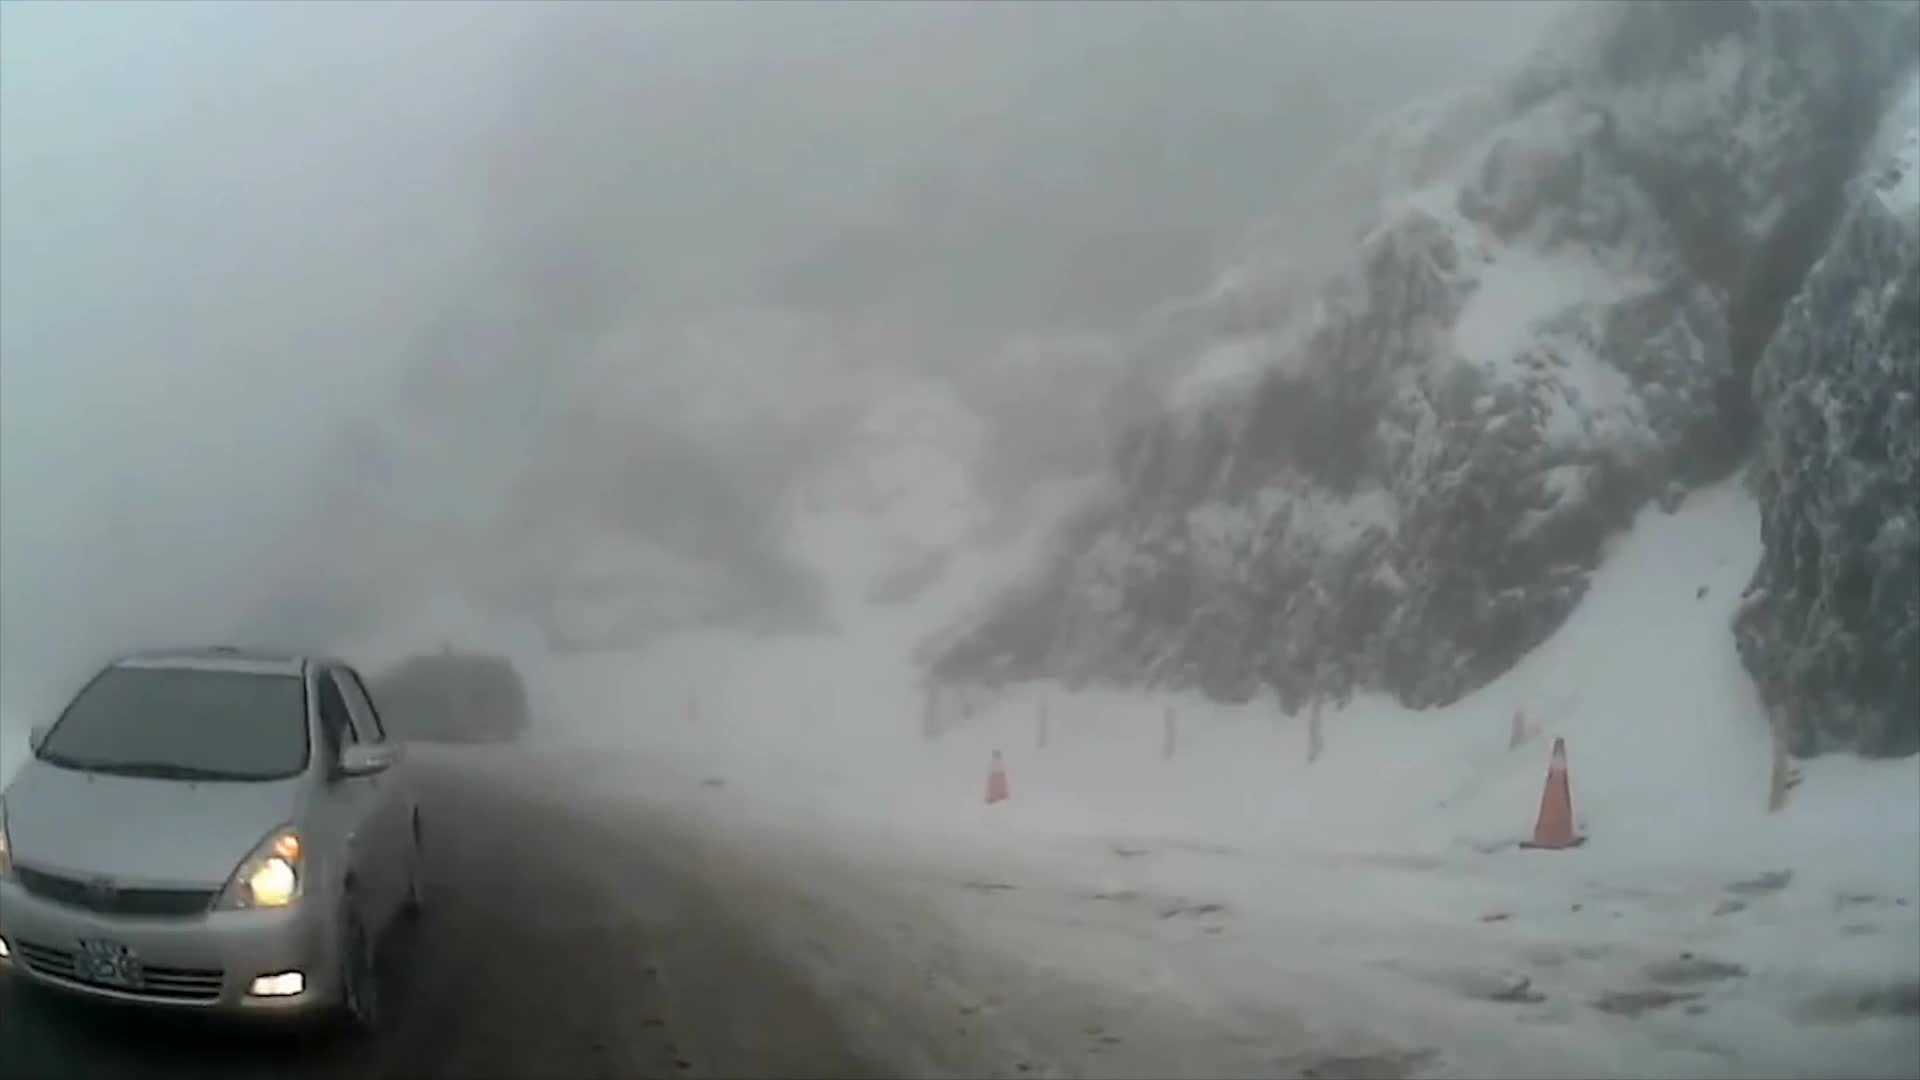vehicle: (0, 642, 434, 1047)
